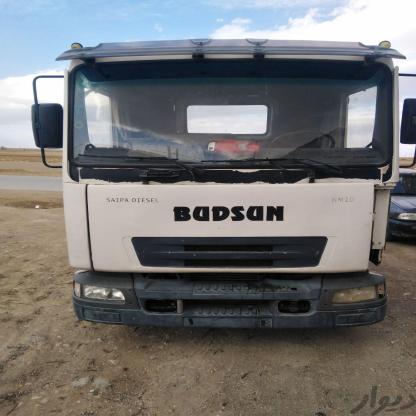Car: (388, 159, 416, 235)
Truck: (34, 32, 390, 334)
